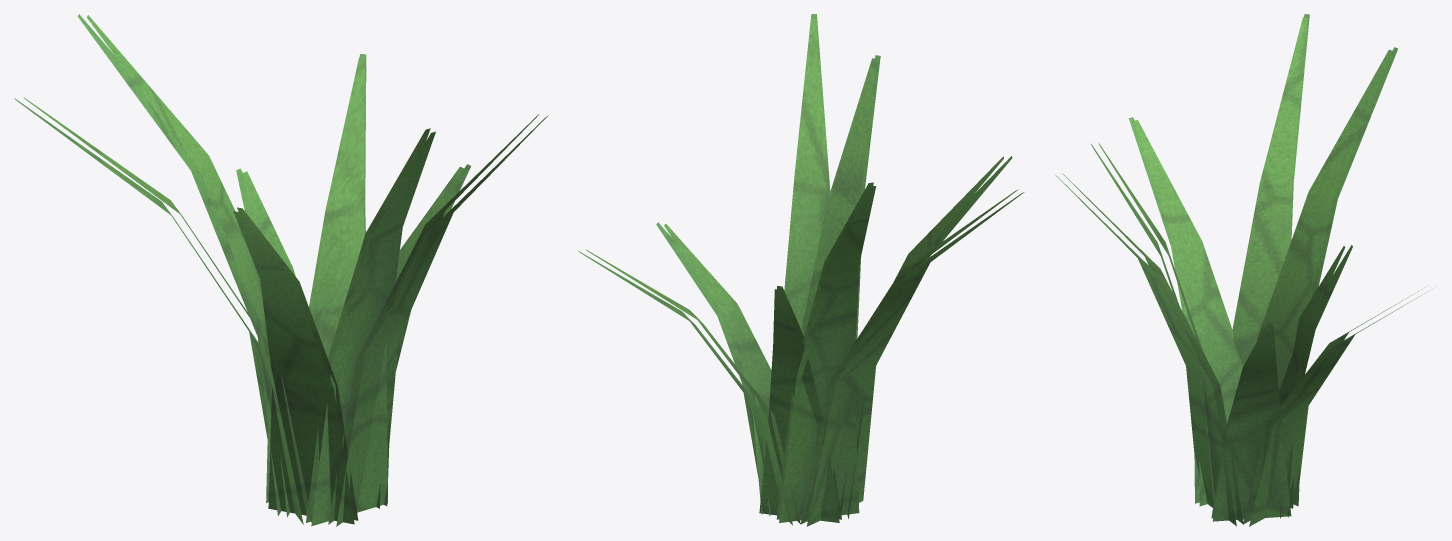
File: WM_GrassTuft_A.fbx
3 renders of one model, left to right at view 1: azimuth 30°, elevation 25°; view 2: azimuth 150°, elevation 25°; view 3: azimuth 270°, elevation 25°, orthographic. The views are drawn at different scales.
Parts seen in each view (by area): view 1: WM_GrassTuft_A_LOD0; view 2: WM_GrassTuft_A_LOD0; view 3: WM_GrassTuft_A_LOD0.
Boxes of the visible parts, x1,y1,x2,y2 form: WM_GrassTuft_A_LOD0: (14, 14, 548, 526); WM_GrassTuft_A_LOD0: (578, 14, 1024, 526); WM_GrassTuft_A_LOD0: (1055, 14, 1433, 526).
Size of what is drawn, in the model's own units: 0.3199 by 0.3244 by 0.2887.
